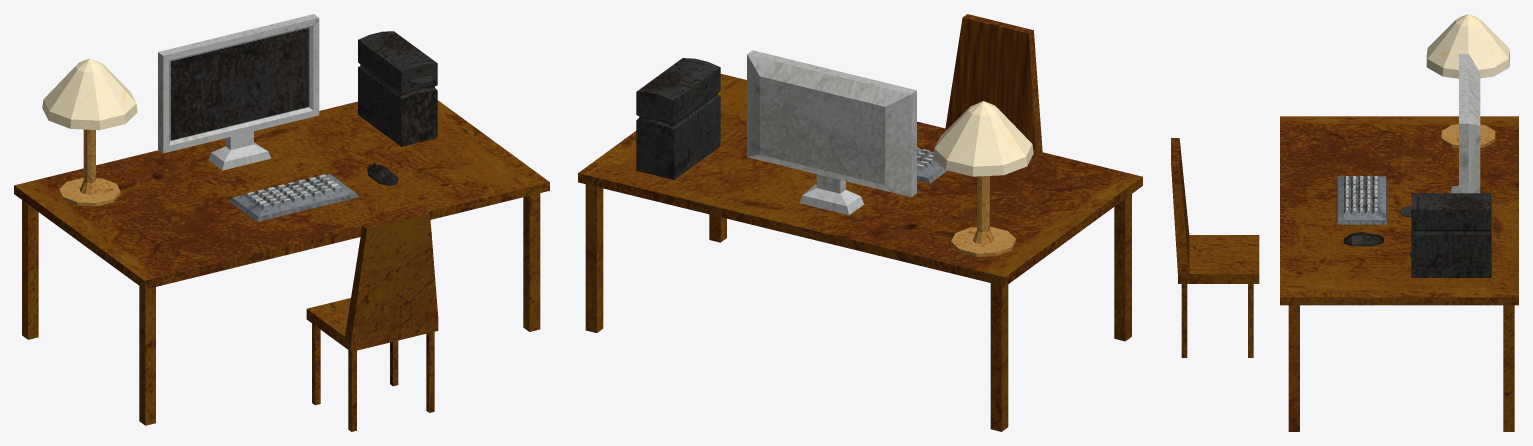
3 renders of one model, left to right at view 1: azimuth 30°, elevation 25°; view 2: azimuth 150°, elevation 25°; view 3: azimuth 270°, elevation 25°, orthographic. The views are drawn at different scales.
Parts seen in each view (by area): view 1: Stuhl; view 2: Stuhl; view 3: Stuhl.
Part boxes in pixels (bbox=[...]): Stuhl: bbox=[14, 14, 549, 431]; Stuhl: bbox=[578, 14, 1142, 431]; Stuhl: bbox=[1171, 14, 1518, 431].
Size of the model in its own units: 379 by 255 by 308.
